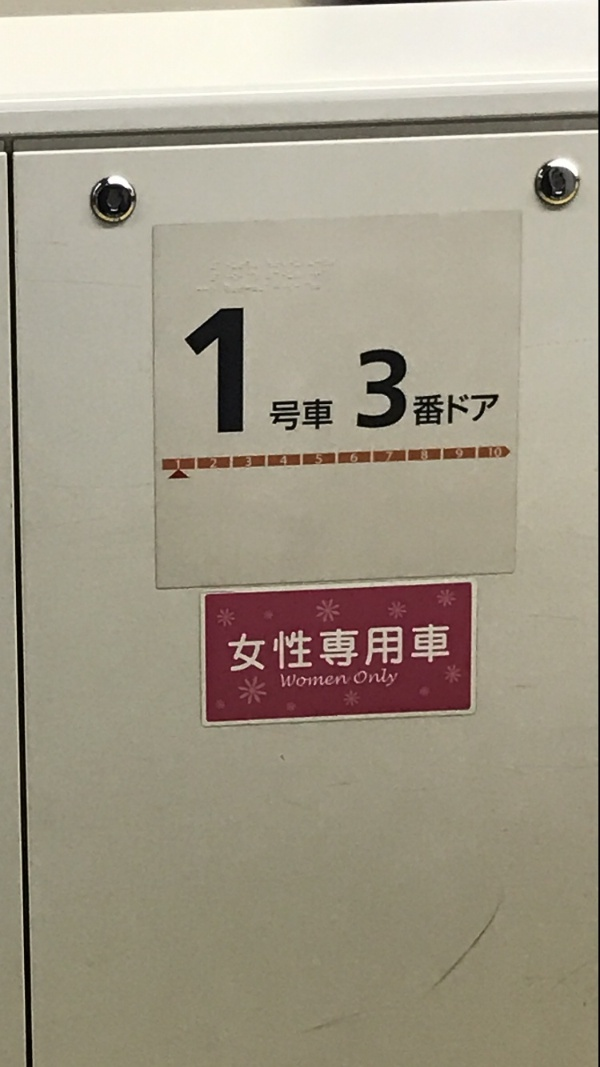text: (193, 292, 208, 440), (209, 292, 224, 440), (225, 292, 240, 440), (181, 292, 192, 440), (369, 346, 384, 431), (385, 346, 400, 431), (241, 620, 256, 682), (257, 620, 272, 682), (273, 620, 288, 682), (289, 620, 304, 682), (305, 620, 320, 682), (321, 620, 336, 682), (337, 620, 352, 682), (353, 620, 368, 682), (369, 620, 384, 682), (385, 620, 400, 682), (401, 620, 416, 682), (417, 620, 432, 682), (433, 620, 448, 682), (358, 346, 368, 431), (227, 620, 240, 682), (241, 292, 246, 440), (401, 346, 409, 431), (273, 398, 288, 436), (289, 398, 304, 436), (305, 398, 320, 436), (417, 392, 432, 428), (433, 392, 448, 428), (449, 392, 464, 428), (465, 392, 480, 428), (481, 392, 496, 428), (321, 398, 335, 436), (369, 668, 384, 690), (385, 668, 400, 690), (355, 668, 368, 690), (289, 673, 304, 687), (305, 673, 320, 687), (321, 673, 336, 687), (337, 673, 352, 687), (449, 620, 452, 682), (269, 398, 272, 436), (413, 392, 416, 428), (497, 392, 500, 428), (281, 673, 288, 687)
